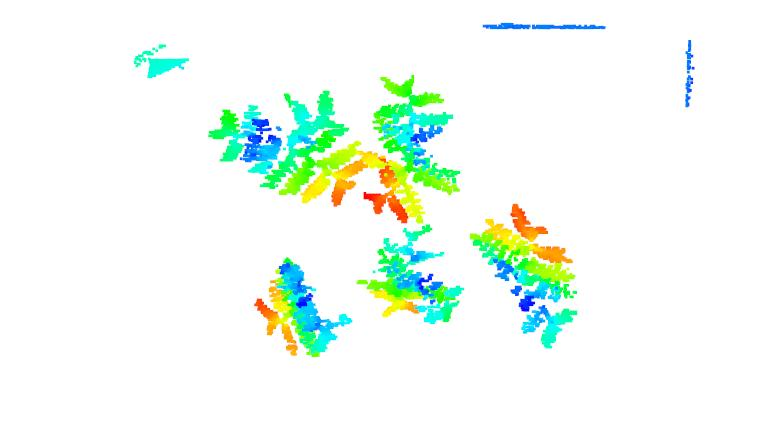chickpea: (208, 90, 367, 206), (471, 204, 580, 346), (363, 73, 459, 224), (356, 221, 469, 327), (251, 256, 354, 360)
